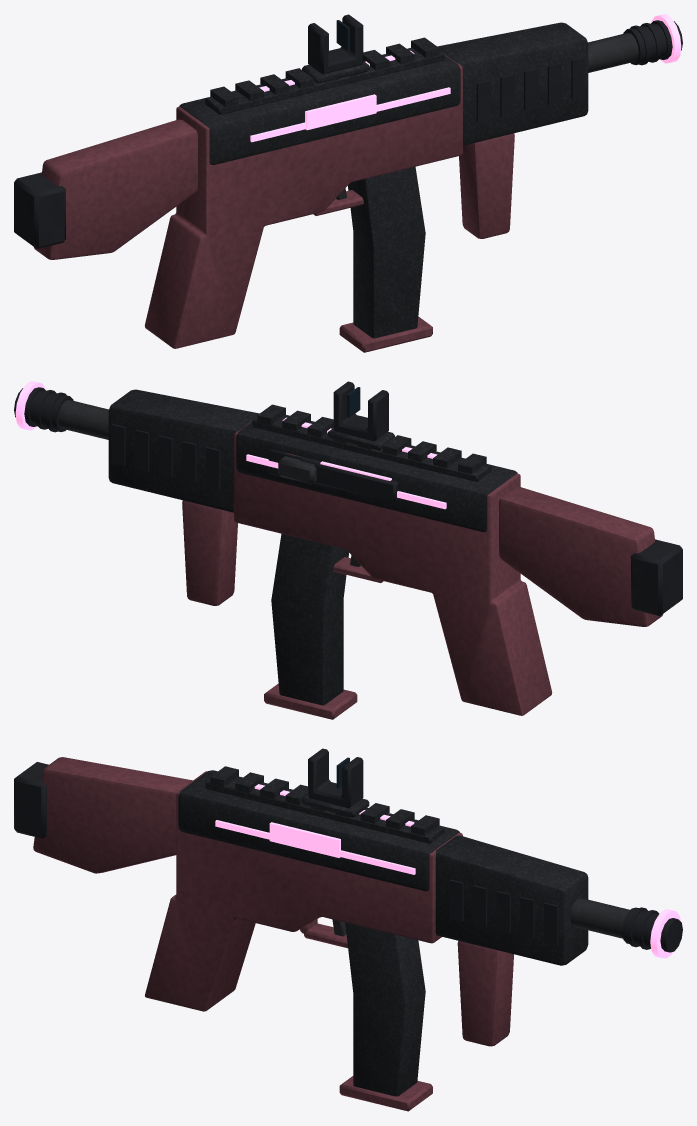
Rendered from smg_r5.fbx.
The picture shows the model from 3 angles, top to bottom: view 1: azimuth 30°, elevation 25°; view 2: azimuth 150°, elevation 25°; view 3: azimuth 330°, elevation 25°; orthographic projection.
Visible parts, largest first — view 1: Body, Magazine, Glow; view 2: Body, Magazine, Bolt, Glow; view 3: Body, Magazine, Glow.
Part boxes in pixels (<box>): Body: <box>14,14,682,348</box>; Magazine: <box>339,166,432,352</box>; Glow: <box>250,14,681,142</box>; Body: <box>14,381,682,715</box>; Magazine: <box>264,533,357,719</box>; Bolt: <box>268,449,398,502</box>; Glow: <box>15,381,446,509</box>; Body: <box>14,748,682,1046</box>; Magazine: <box>339,922,432,1111</box>; Glow: <box>215,784,680,958</box>.
Size of the model in its own units: 6.05 by 2.89 by 0.68.
Materials: 2 (1 with a texture image).
